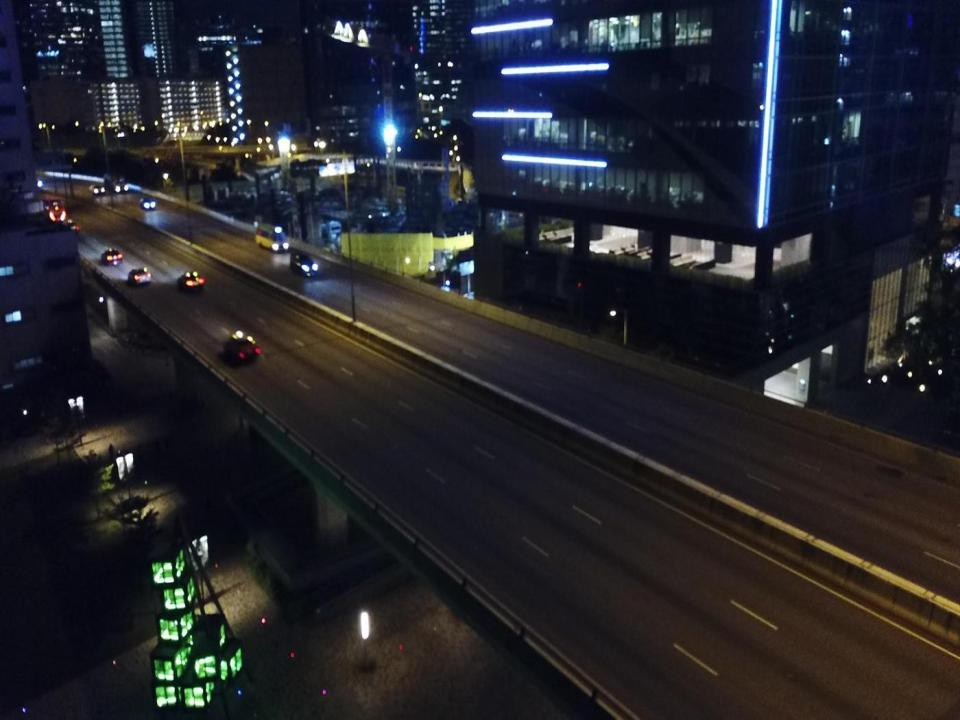bus: (29, 190, 66, 222), (255, 222, 289, 253), (102, 172, 128, 192)
car: (224, 334, 261, 360), (290, 251, 318, 277), (177, 270, 205, 290), (127, 267, 151, 285), (101, 247, 123, 266), (60, 217, 80, 236), (138, 197, 156, 211), (88, 185, 104, 194)
